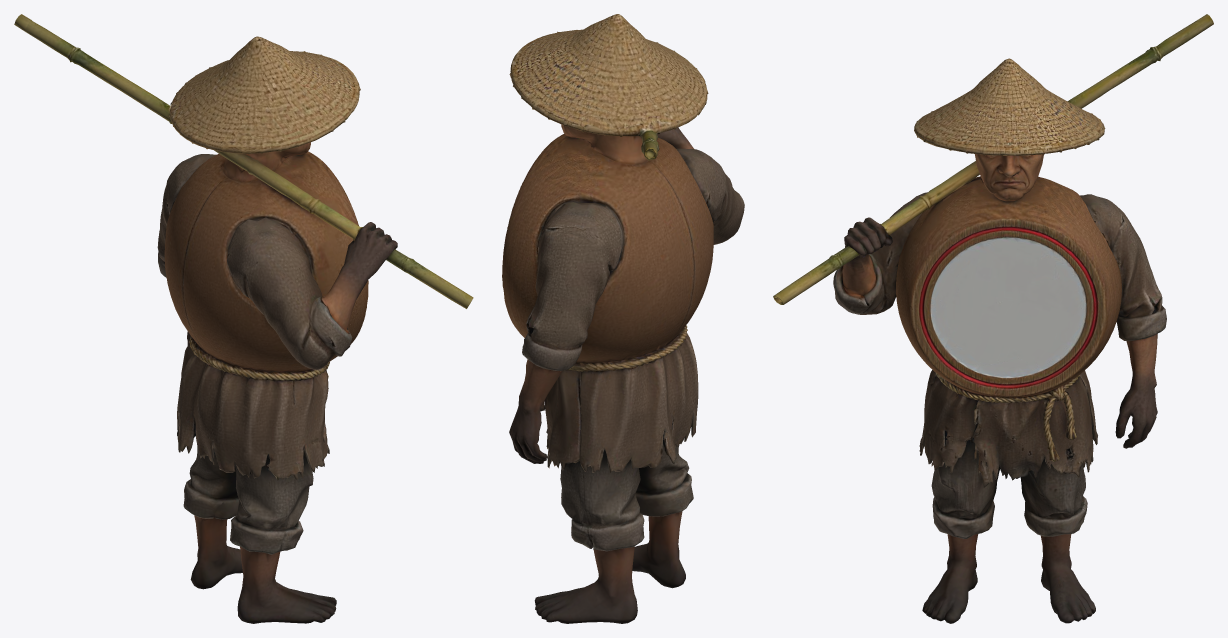
Rendered from p_liulaogao.glb.
The picture shows the model from 3 angles, left to right: view 1: azimuth 30°, elevation 25°; view 2: azimuth 150°, elevation 25°; view 3: azimuth 270°, elevation 25°; orthographic projection. The views are drawn at different scales.
Parts seen in each view (by area): view 1: tripo_node_7b4c9c7a-e688-42b3-94df-4a40b5bb66d9; view 2: tripo_node_7b4c9c7a-e688-42b3-94df-4a40b5bb66d9; view 3: tripo_node_7b4c9c7a-e688-42b3-94df-4a40b5bb66d9.
Boxes of the visible parts, x1,y1,x2,y2 form: tripo_node_7b4c9c7a-e688-42b3-94df-4a40b5bb66d9: [14, 14, 473, 623]; tripo_node_7b4c9c7a-e688-42b3-94df-4a40b5bb66d9: [502, 14, 744, 623]; tripo_node_7b4c9c7a-e688-42b3-94df-4a40b5bb66d9: [773, 14, 1213, 623].
Size of the model in its own units: 0.4377 by 0.9809 by 0.7202.
1 material, 1 textured.
